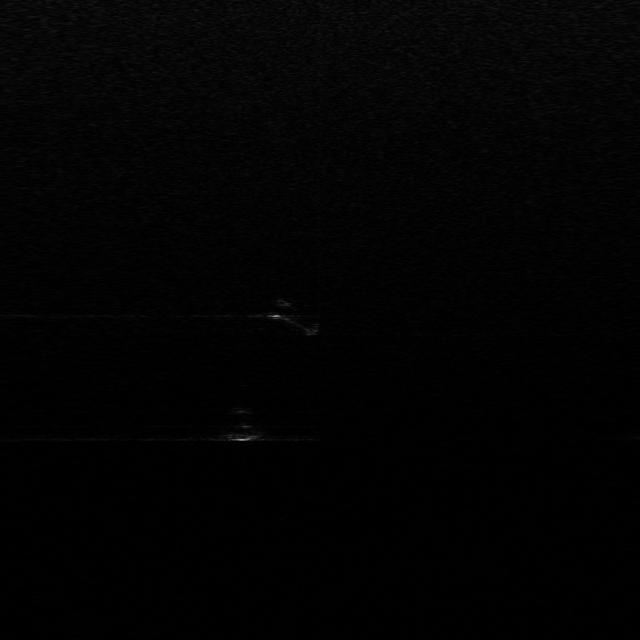ball: (217, 407, 268, 441)
tyre: (262, 296, 322, 337)
